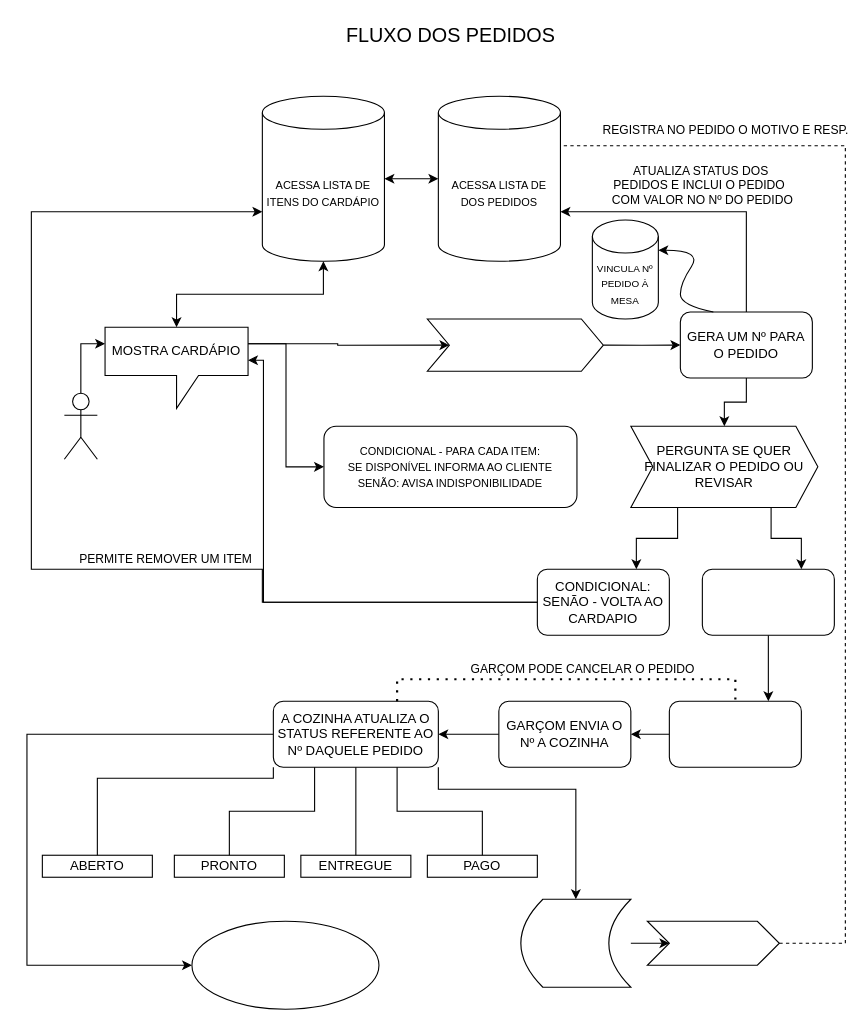
The diagram is 867 pixels wide and 1029 high, and some of its shapes have lost their labels. The shapes that lost their labels are listed below. From the top down, each one's centre as x and y in pixels, then its label:
[514,344]: ENTRA COM A ESCOLHA DO PEDIDO
[80,425]: Cliente
[767,601]: CONDICIONAL: SE FINALIZA
[734,733]: ENVIA O Nº DO PEDIDO AO GARÇOM
[575,942]: CASO CANCELADO
[712,942]: SOLICITA MOTIVO E RESPONSÁVEL
[285,964]: LISTA PEDIDOS DA MESA:CONSUMO TOTAL
